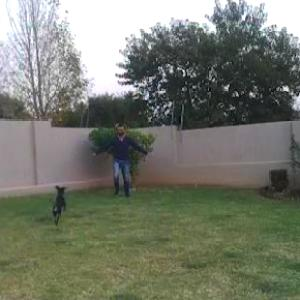land: (81, 114, 149, 206)
